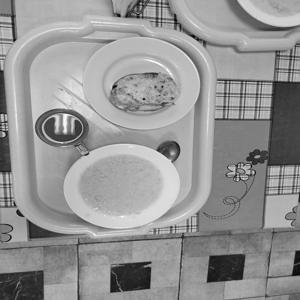cheese_sandwich: (103, 64, 193, 123)
coffee: (30, 101, 97, 160)
porridge: (78, 157, 162, 215)
